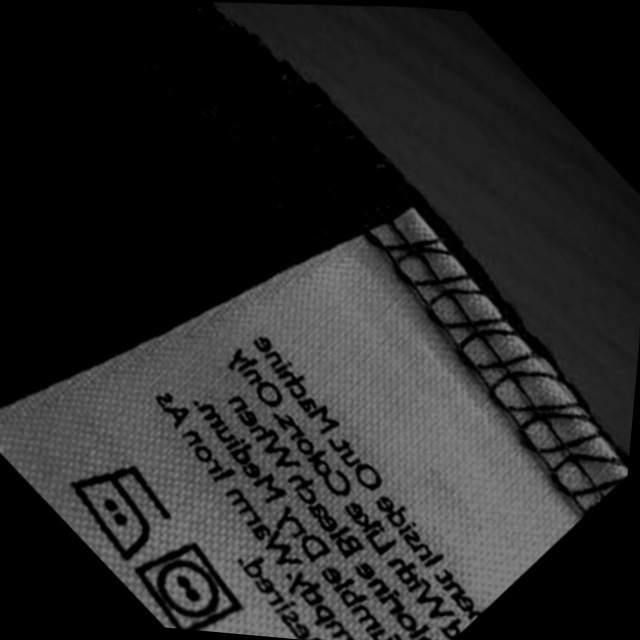iron_medium: (57, 457, 176, 564)
tumble_dry_medium: (126, 536, 247, 634)
